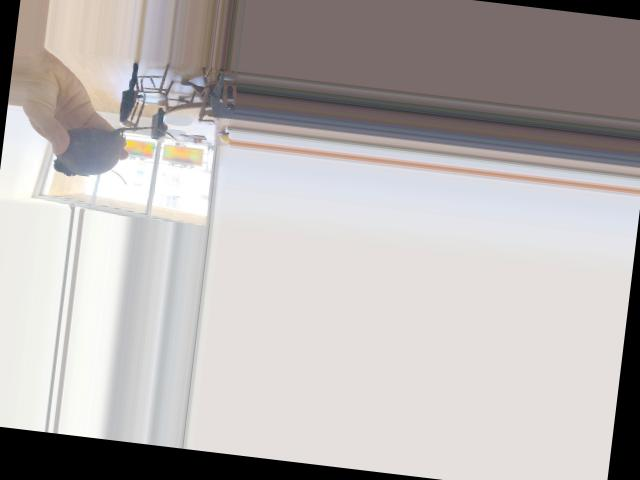beet: (53, 115, 178, 188)
